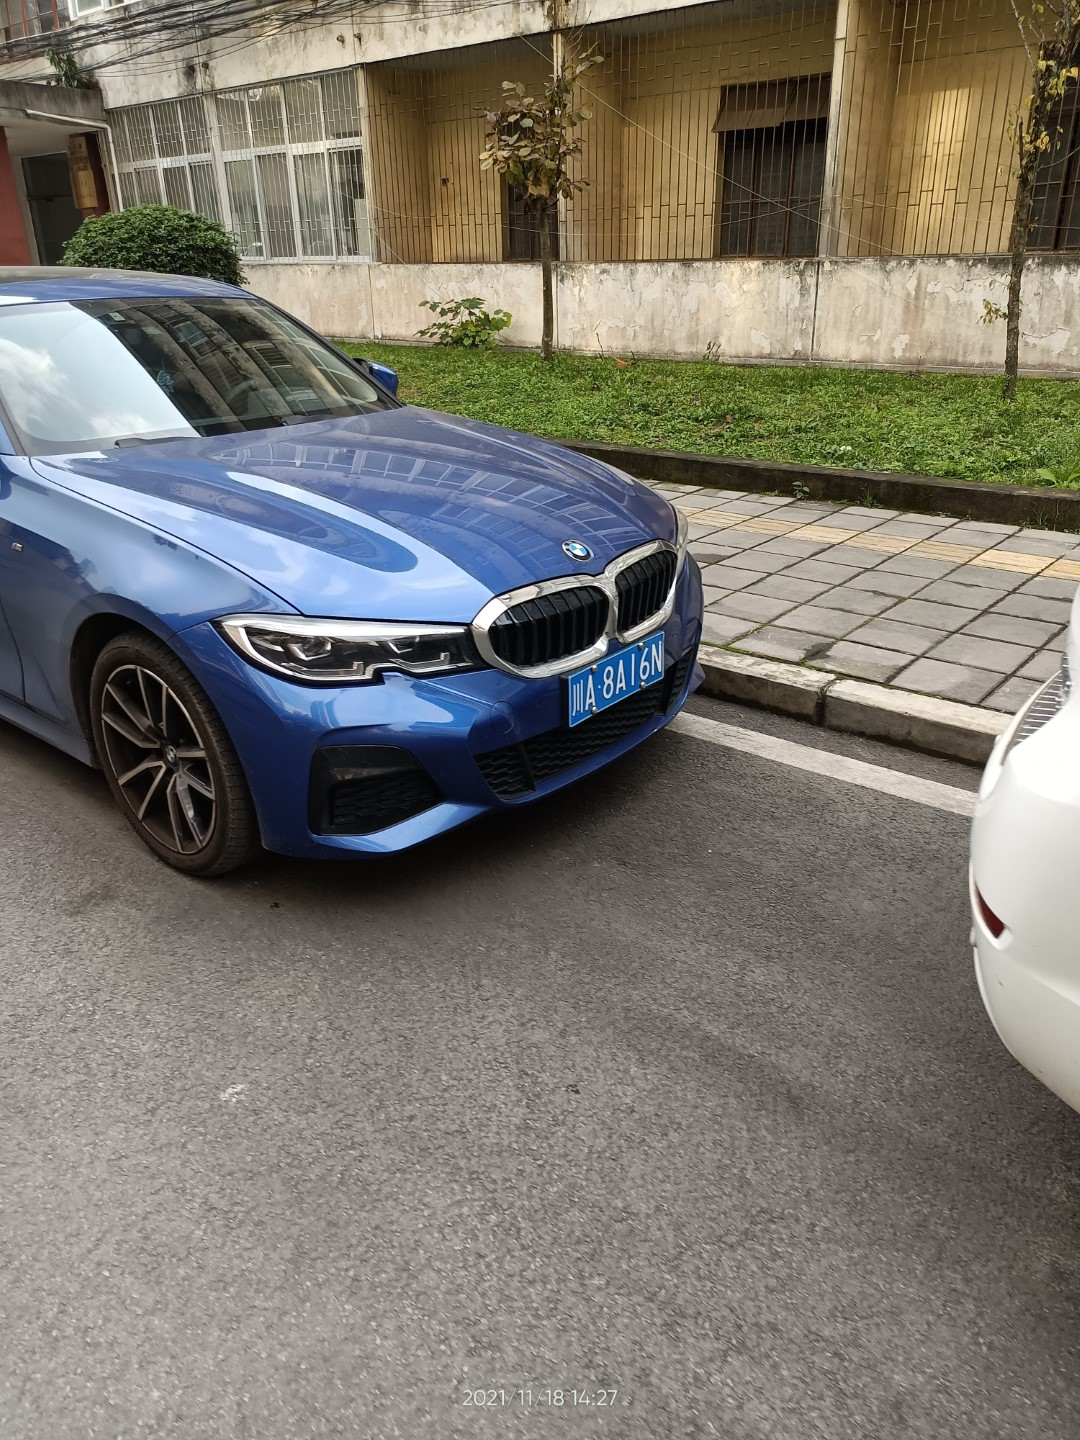plate: (566, 632, 664, 726)
